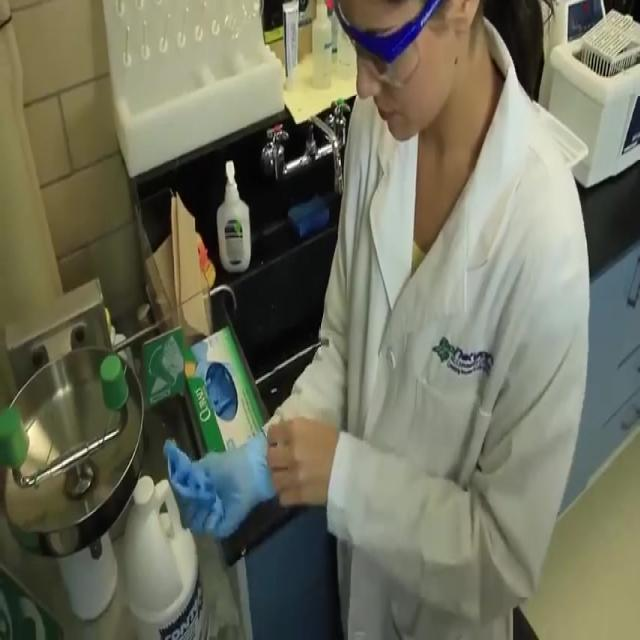googles: (330, 2, 420, 86)
labcoat: (267, 13, 591, 640)
